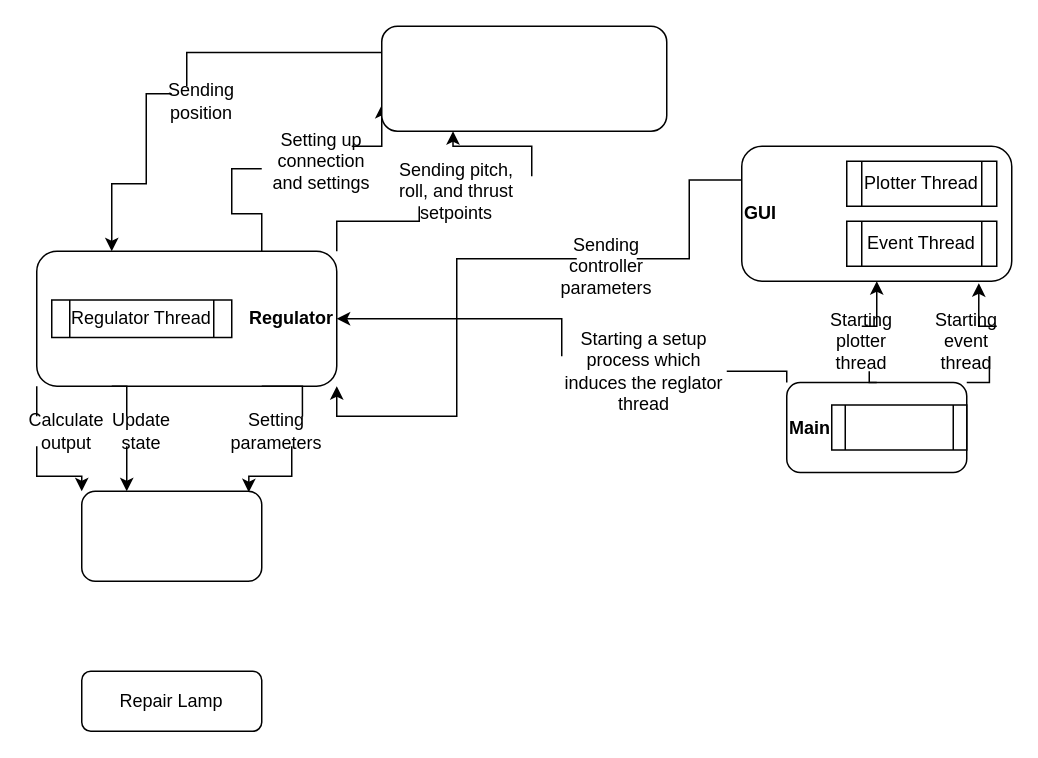
This 1038x758 diagram has some shape labels left out. Here are the shapes that lost their labels. From the top down, the centre of each, then its label:
At (523,78): "Crazyflie".
At (898,427): "Main Thread".
At (171,535): "PDController".
